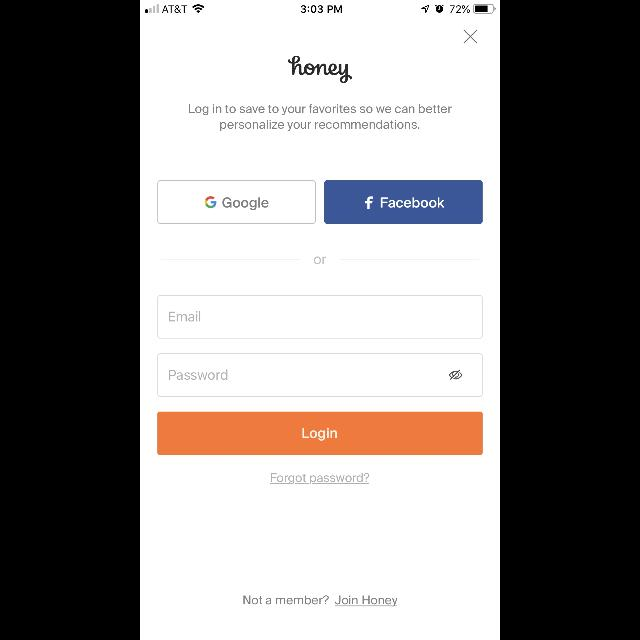icon: (464, 30, 476, 44), (449, 370, 463, 380)
image: (288, 56, 352, 84)
input: (158, 354, 482, 396), (158, 296, 482, 338)
text: (190, 105, 452, 132), (244, 596, 398, 606), (270, 474, 370, 484), (169, 370, 227, 380), (170, 312, 200, 322), (314, 256, 326, 264)
textbutton: (158, 412, 482, 456), (158, 180, 316, 223), (324, 180, 482, 223)
uppertaskbar: (140, 0, 500, 14)
